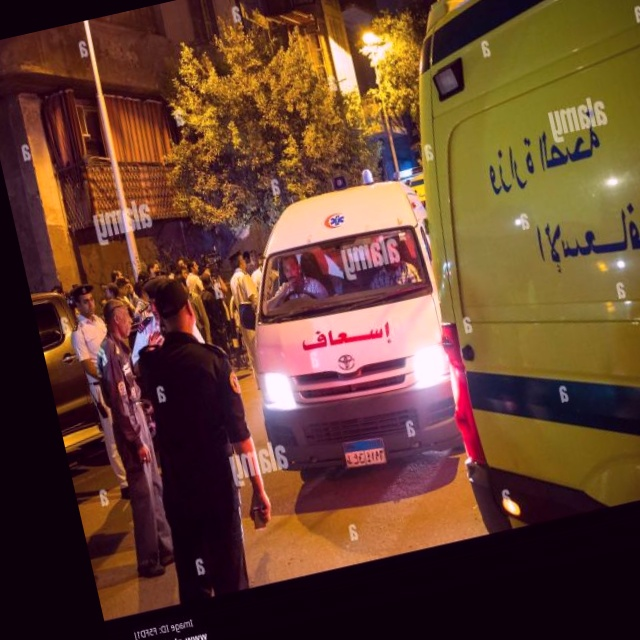Ambulance: (351, 0, 640, 538), (213, 156, 481, 492)
person: (109, 266, 288, 605), (78, 295, 190, 580), (60, 280, 146, 504), (221, 248, 279, 392), (256, 248, 330, 312), (360, 232, 422, 292)
